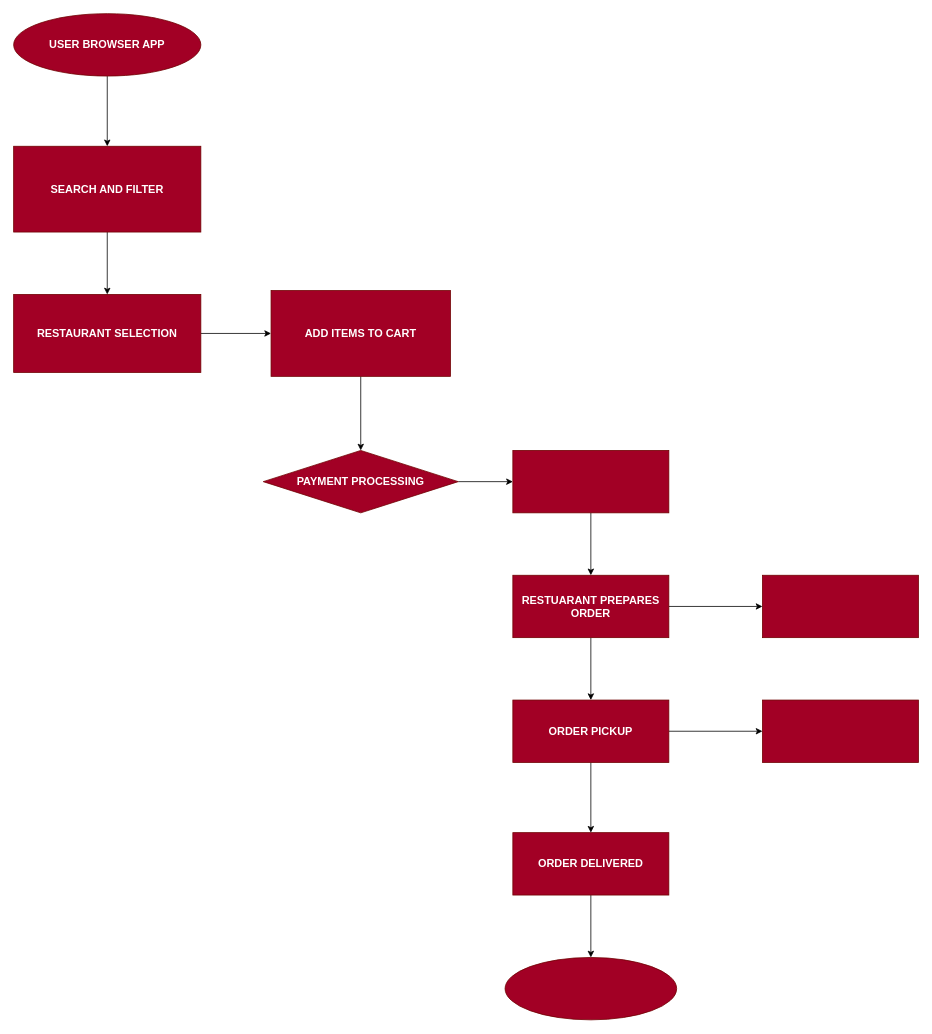
Some shapes in this 932 by 1034 pixel diagram are drawn without their labels. Here are the shapes that lost their labels. From the top down, the box of each, then its label:
(512, 450, 669, 513): ORDER CONFIRMATION
(762, 574, 918, 638): DELIVERY PARTNER ASSIGNED
(762, 699, 918, 762): LIVE TRACKING
(504, 957, 677, 1020): RATING AND FEEDBACK
